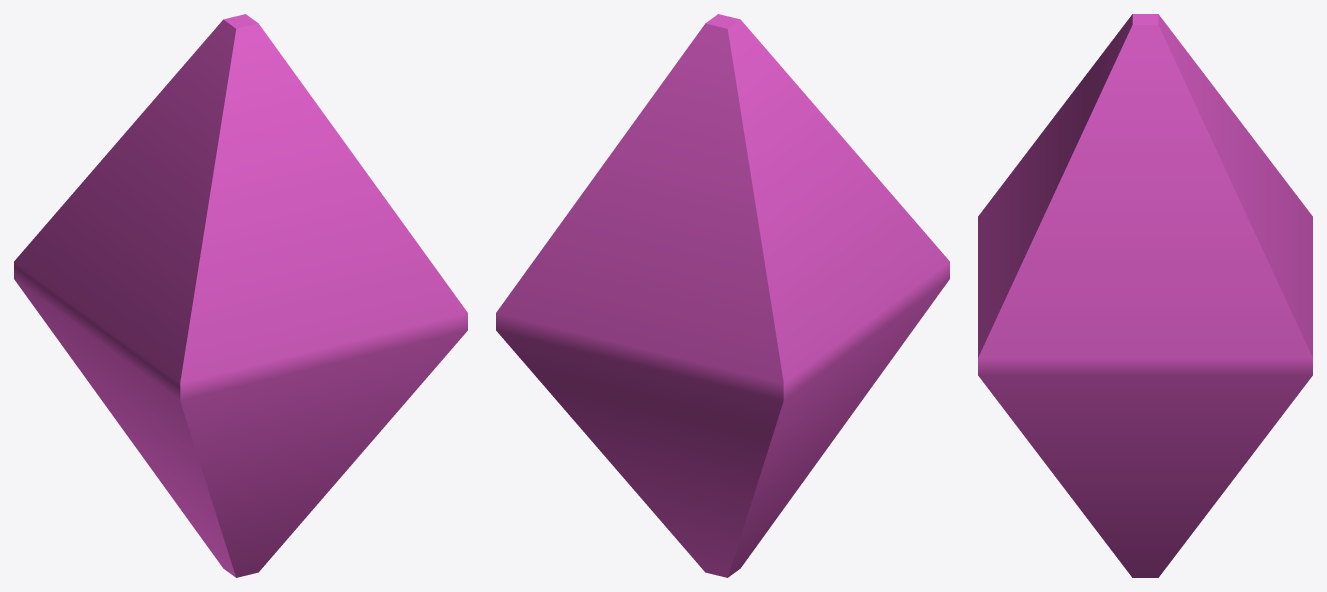
File: pylon.fbx
3 renders of one model, left to right at view 1: azimuth 30°, elevation 25°; view 2: azimuth 150°, elevation 25°; view 3: azimuth 270°, elevation 25°, orthographic.
Visible parts, largest first — view 1: Cube; view 2: Cube; view 3: Cube.
Part boxes in pixels (x1=…): Cube: x1=14, y1=14, x2=467, y2=577; Cube: x1=496, y1=14, x2=949, y2=577; Cube: x1=978, y1=14, x2=1312, y2=577.
Bounding box in the file's own units: 194 × 354 × 194.
